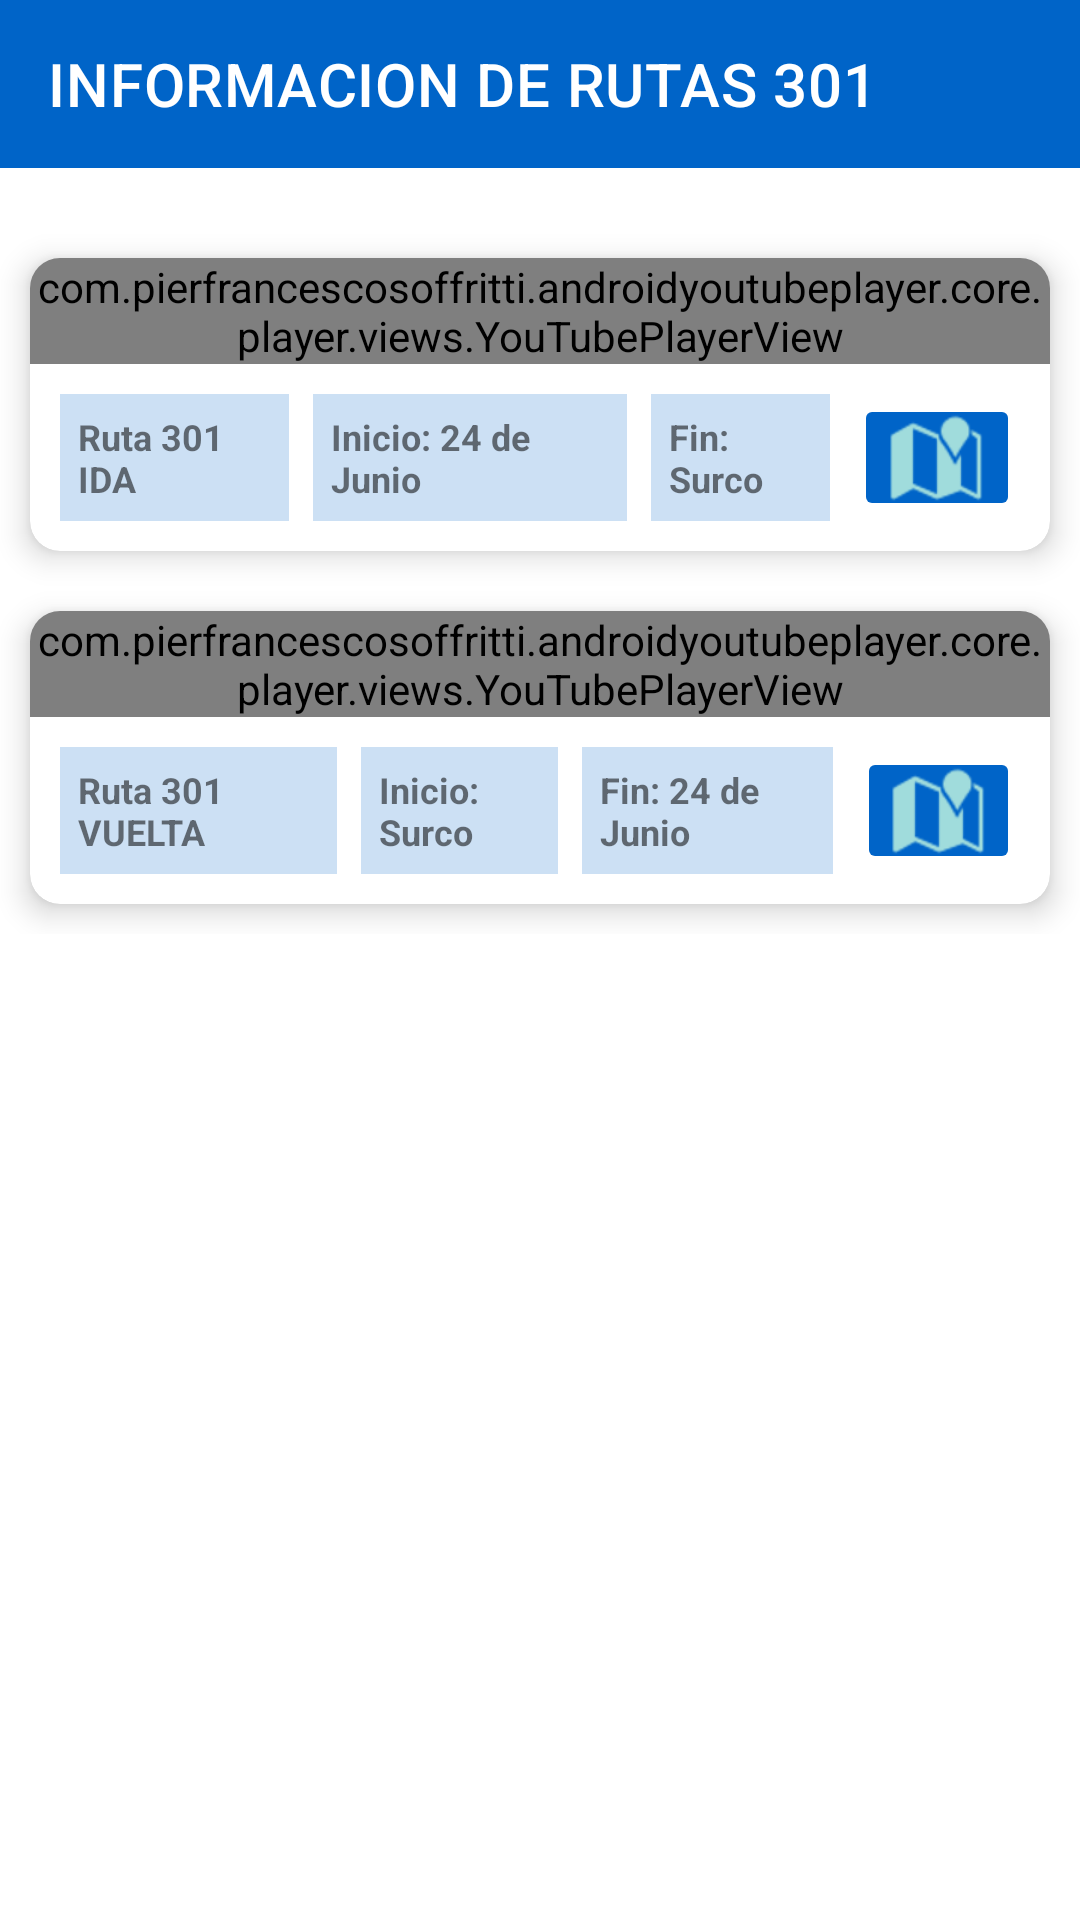

Icon bounding boxes for this 1080x1920 phone screenshot, format (x1, y1, x2, y2):
map: (866, 412, 1008, 503), (869, 765, 1008, 856)
